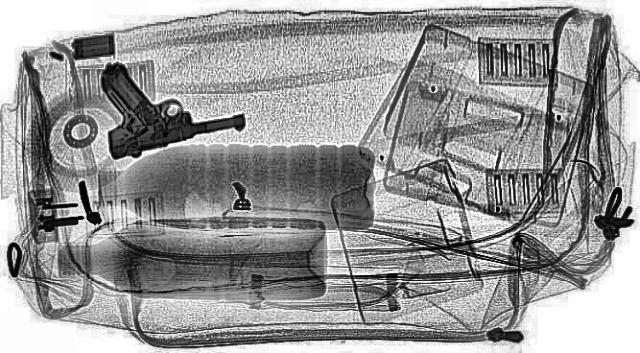Gun: (39, 46, 254, 160)
